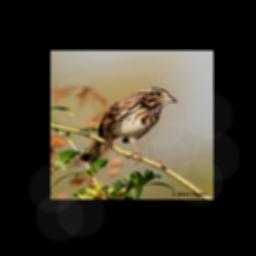Sparrow: (78, 86, 177, 166)
